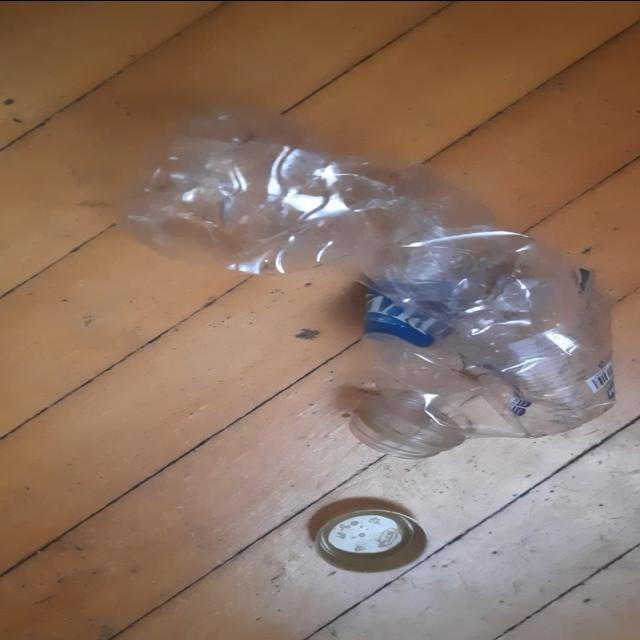Plastic: (119, 110, 616, 458)
